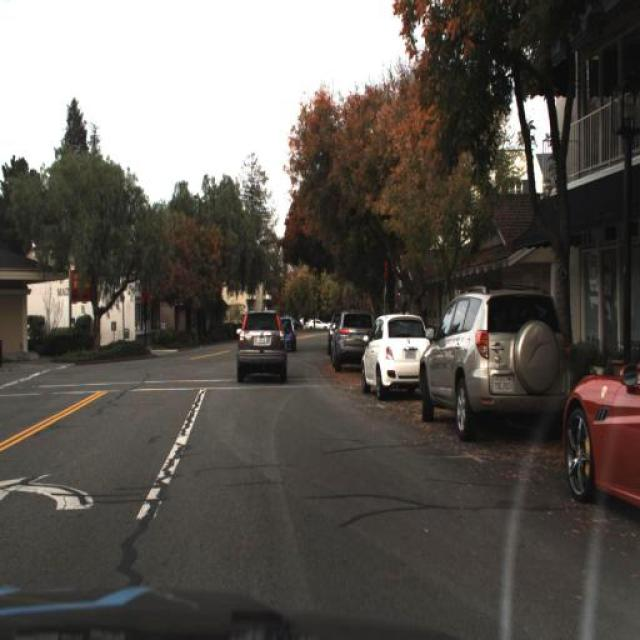car: (414, 279, 565, 435), (561, 347, 640, 521), (358, 315, 427, 399), (235, 304, 293, 388), (328, 308, 376, 367), (276, 313, 298, 357)
